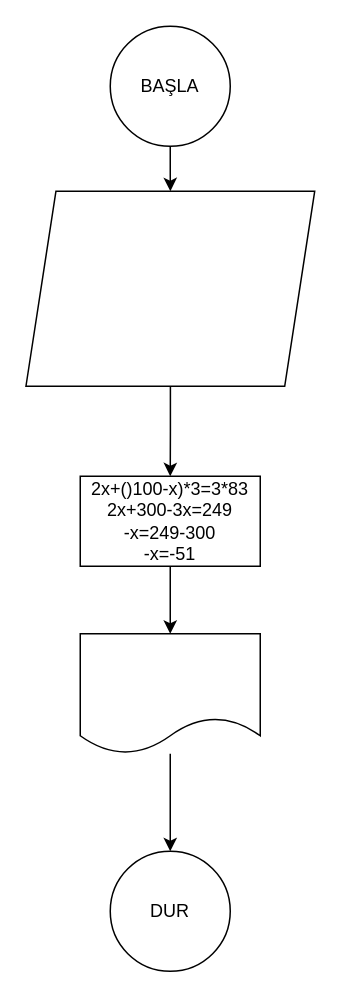
Image size: 342x998. Some labels were removed from this diagram. The shapes that lost their labels are listed below. From the top down, each one's centre as x and y in pixels, then its label:
At [169,288]: "3x=100 2 kardesin bulunduğu =x, 3 kardeşin bulunduğu=100-x".
At [169,693]: "x=51".
